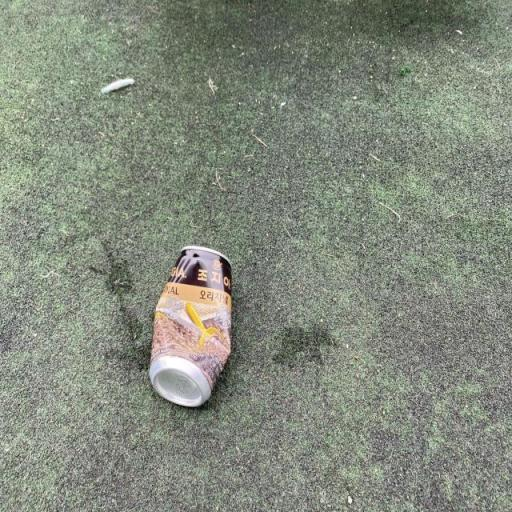metal: (134, 220, 256, 416)
